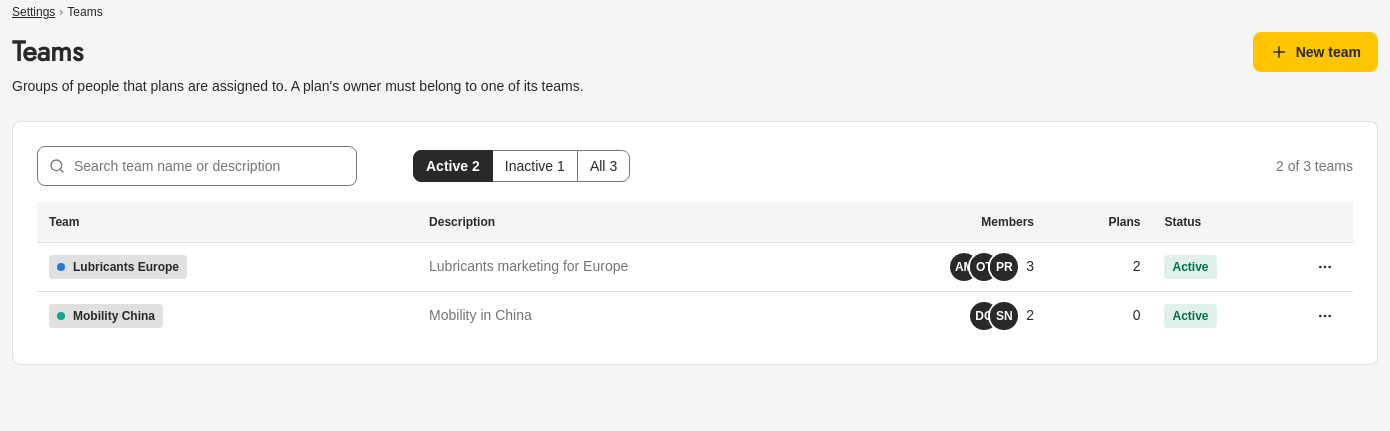
Test: TeamsPage (feature 003, US2): the list and a team's details › searches names and descriptions, filters by status, and clears the filters
Type "china" into the search field labelled "Search team name or description" at (197, 166), box [37,146,357,186]
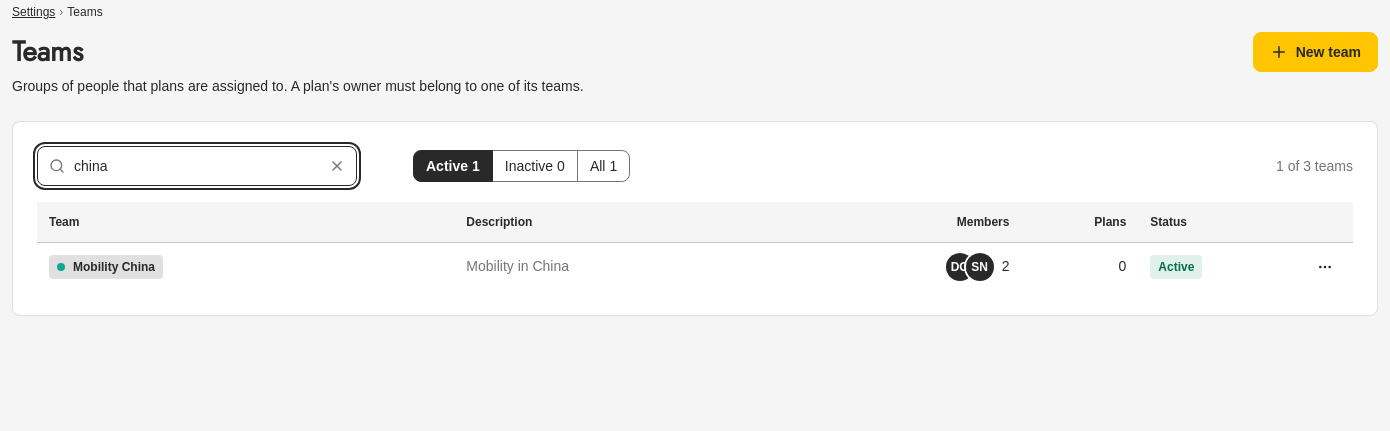
Expected: the text "1 of 3 teams" is shown, [1276,156,1353,176]
Expected: the number of rows is 2, [37,202,1353,242]; [37,242,1353,290]
Replace the text in the search field with "MARKETING" at (197, 166), box [37,146,357,186]
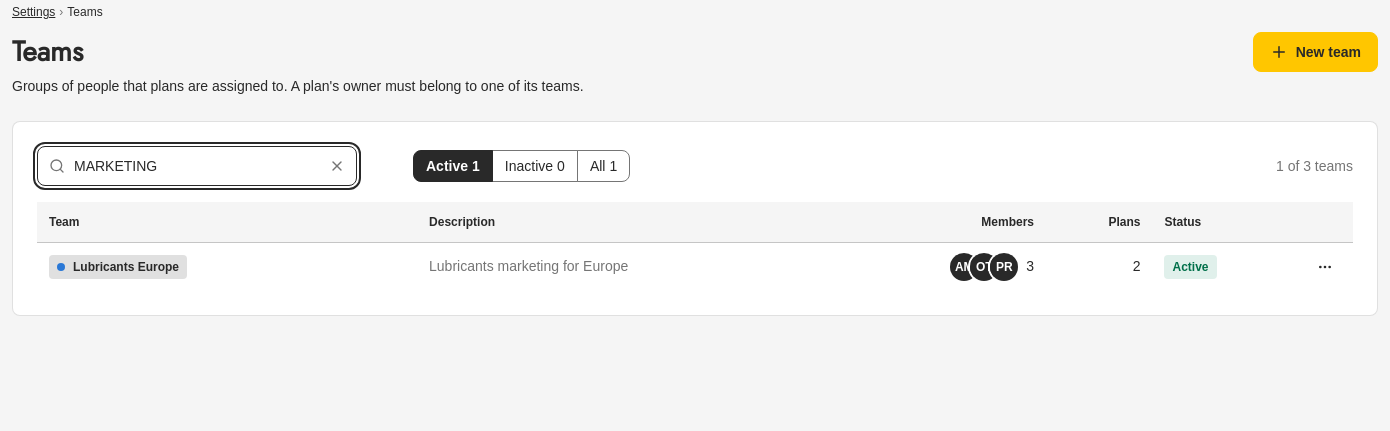
Expected: the text "1 of 3 teams" is shown, [1276,156,1353,176]
Clear the search field at (197, 166), box [37,146,357,186]
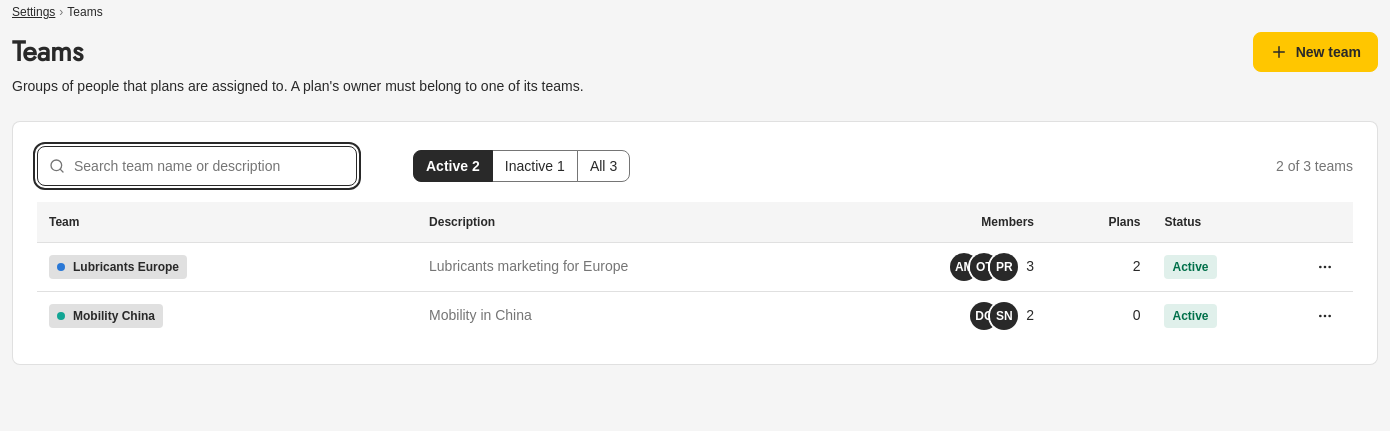
Click the button "Inactive 1" at (535, 166), box [492,150,578,182]
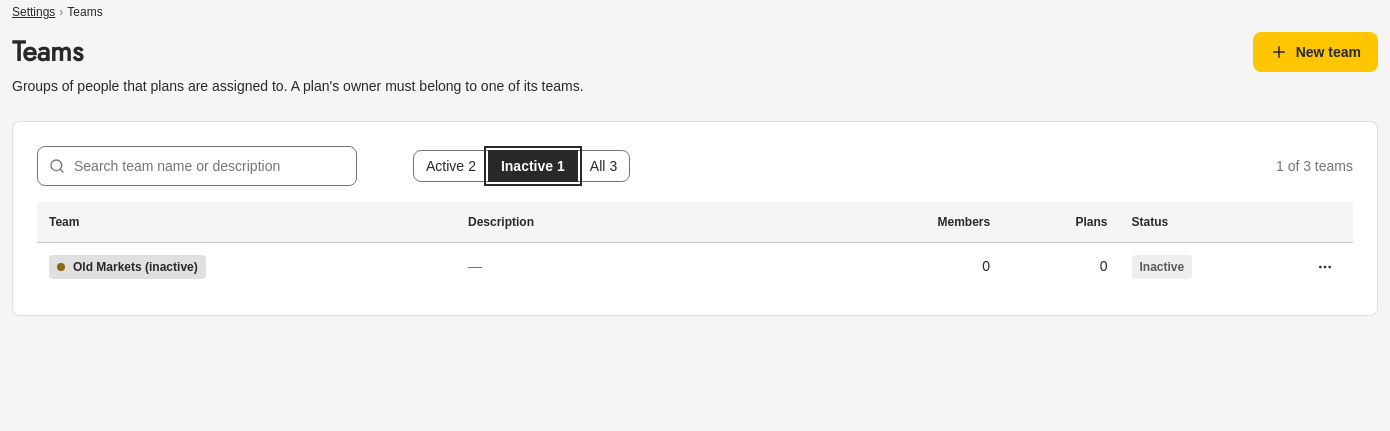
Expected: the text "1 of 3 teams" is shown, [1276,156,1353,176]
Type "china" into the search field with placeholder "Search team name or description" at (197, 166), box [37,146,357,186]
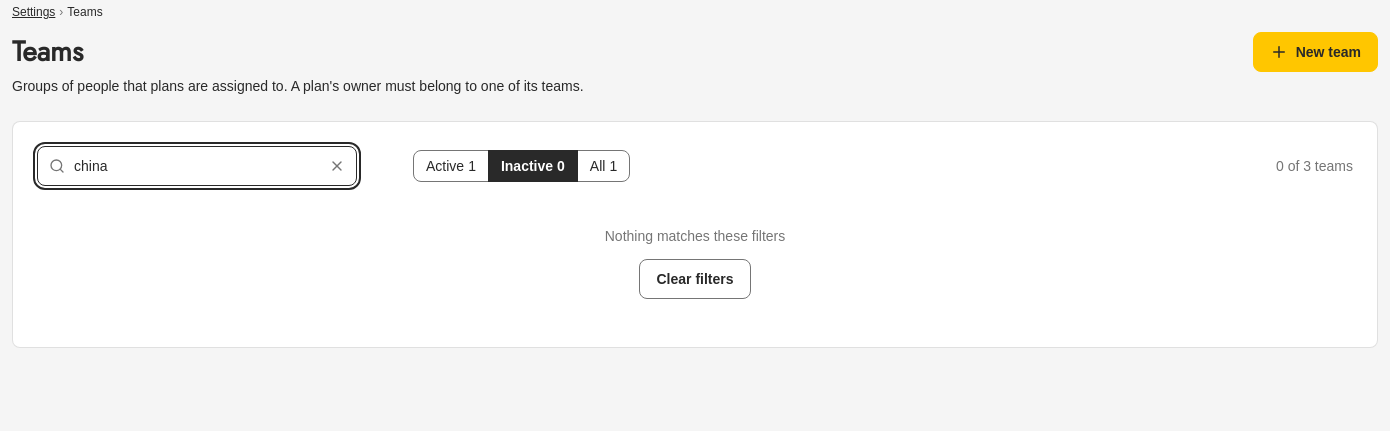
Expected: the text "Nothing matches these filters" is shown, [605,226,785,247]
Click the button "Clear filters" at (695, 279), box [640,259,750,299]
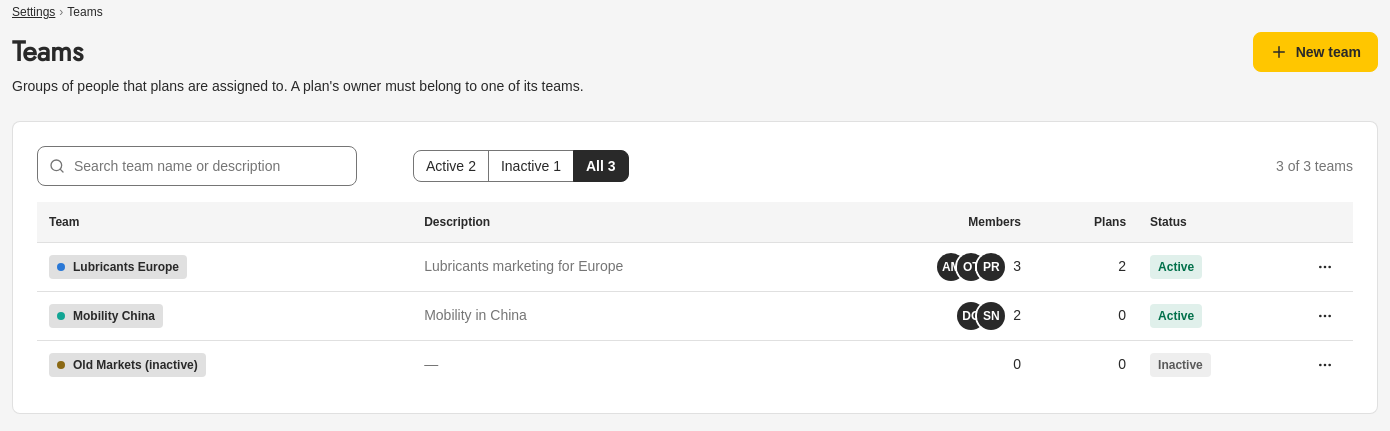
Expected: the text "3 of 3 teams" is shown, [1276,156,1353,176]
